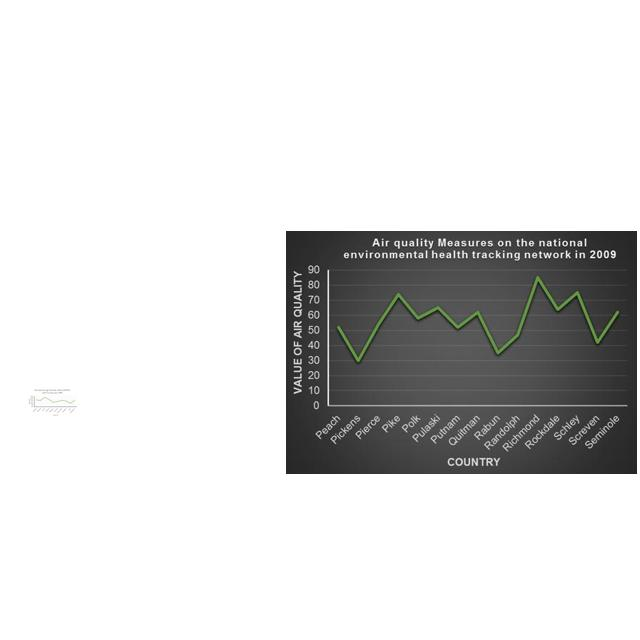Graph: (286, 231, 637, 474), (27, 388, 78, 417)
